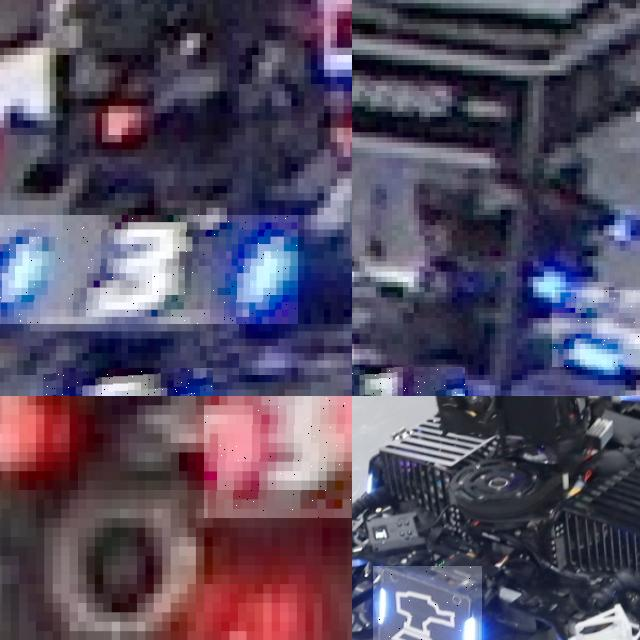B1: (552, 289, 640, 367)
B3: (0, 215, 298, 324)
Bs: (373, 565, 483, 640)
R3: (204, 396, 352, 518)
